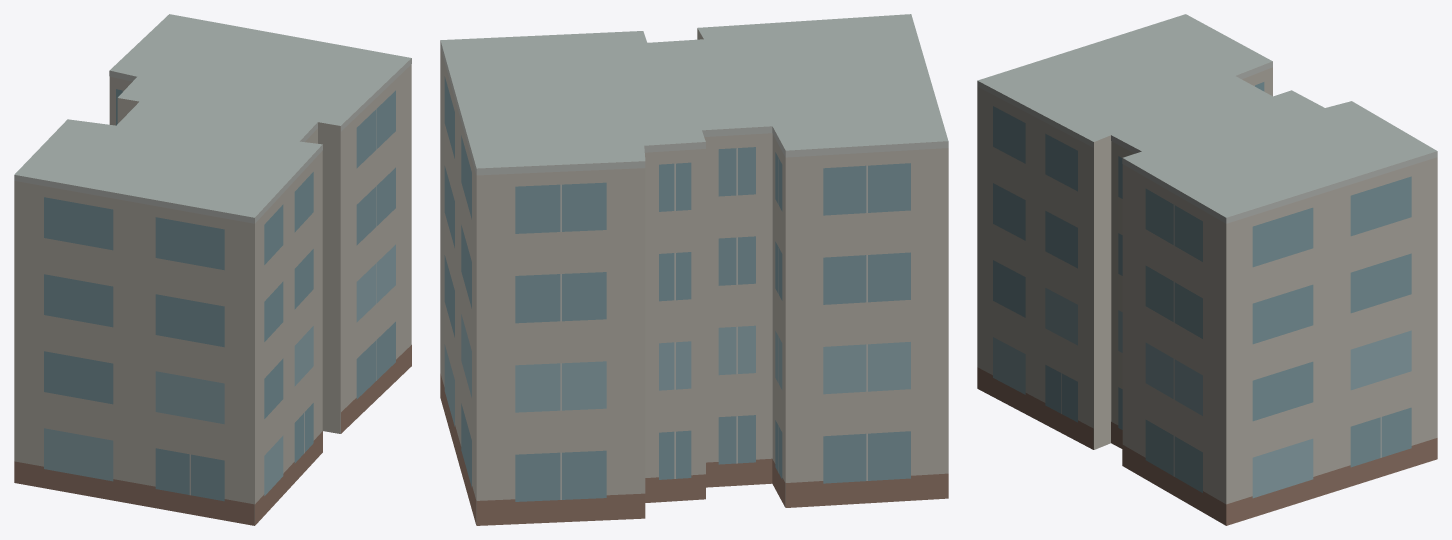
File: survey-upis-32683775.glb
The picture shows the model from 3 angles, left to right: view 1: azimuth 30°, elevation 25°; view 2: azimuth 150°, elevation 25°; view 3: azimuth 270°, elevation 25°; orthographic projection. The views are drawn at different scales.
Visible parts, largest first — view 1: survey-upis-32683775.tmp; view 2: survey-upis-32683775.tmp; view 3: survey-upis-32683775.tmp.
Part boxes in pixels (x1,y1,x2,y2): survey-upis-32683775.tmp: [14, 14, 411, 525]; survey-upis-32683775.tmp: [440, 14, 948, 525]; survey-upis-32683775.tmp: [977, 14, 1437, 525].
Size of the model in its own units: 17.82 by 12.55 by 17.
